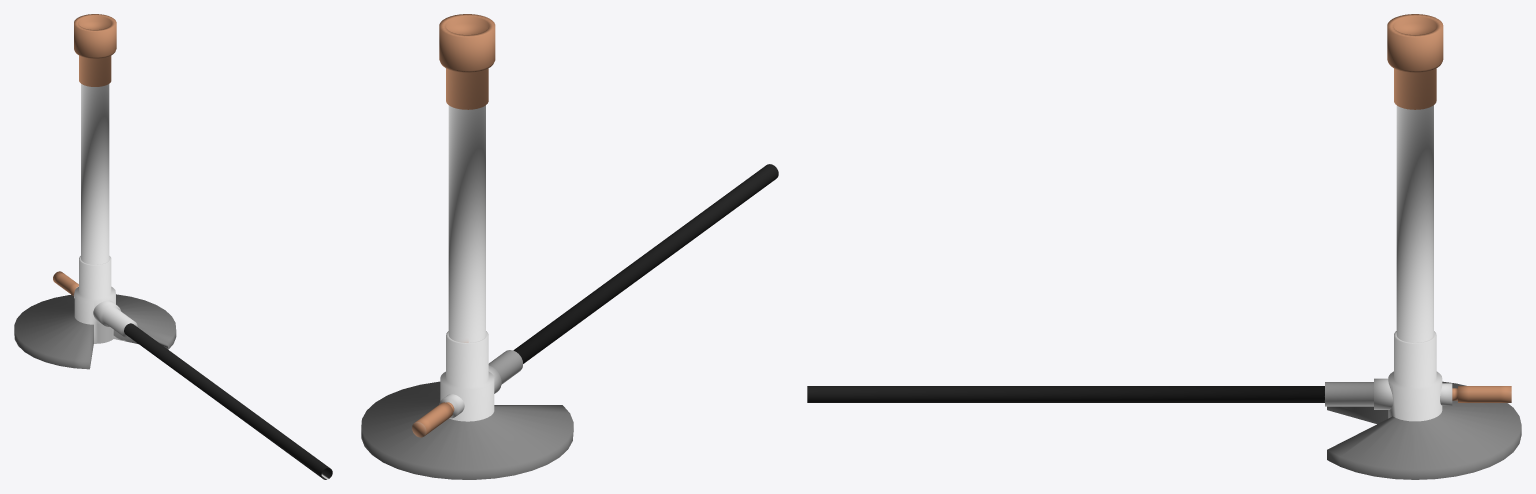
The model's file is Bunsen Burner.fbx.
3 views of the same model, side by side, from view 1: azimuth 30°, elevation 25°; view 2: azimuth 150°, elevation 25°; view 3: azimuth 270°, elevation 25° (orthographic). The views are drawn at different scales.
Visible parts, largest first — view 1: Burner; view 2: Burner; view 3: Burner.
Part boxes in pixels (left/top/right/bottom): Burner: left=14, top=14, right=332, bottom=479; Burner: left=361, top=14, right=778, bottom=479; Burner: left=807, top=14, right=1521, bottom=479.
Size of the model in its own units: 200 by 425 by 672.
